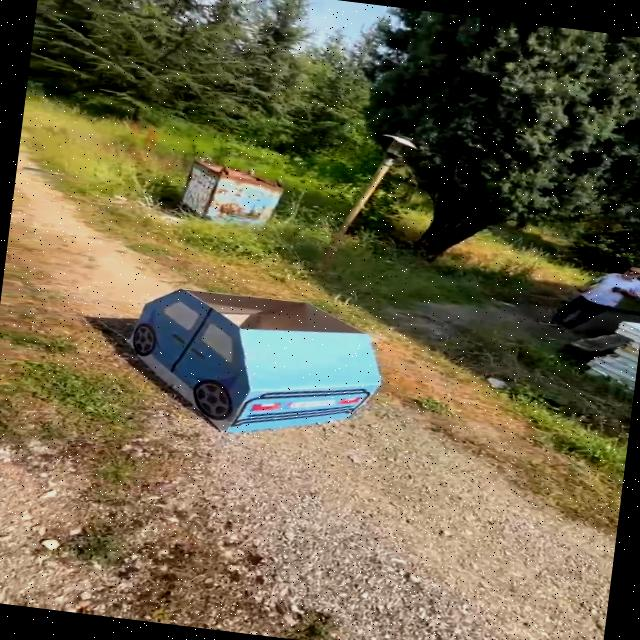blue_car: (94, 262, 407, 460)
